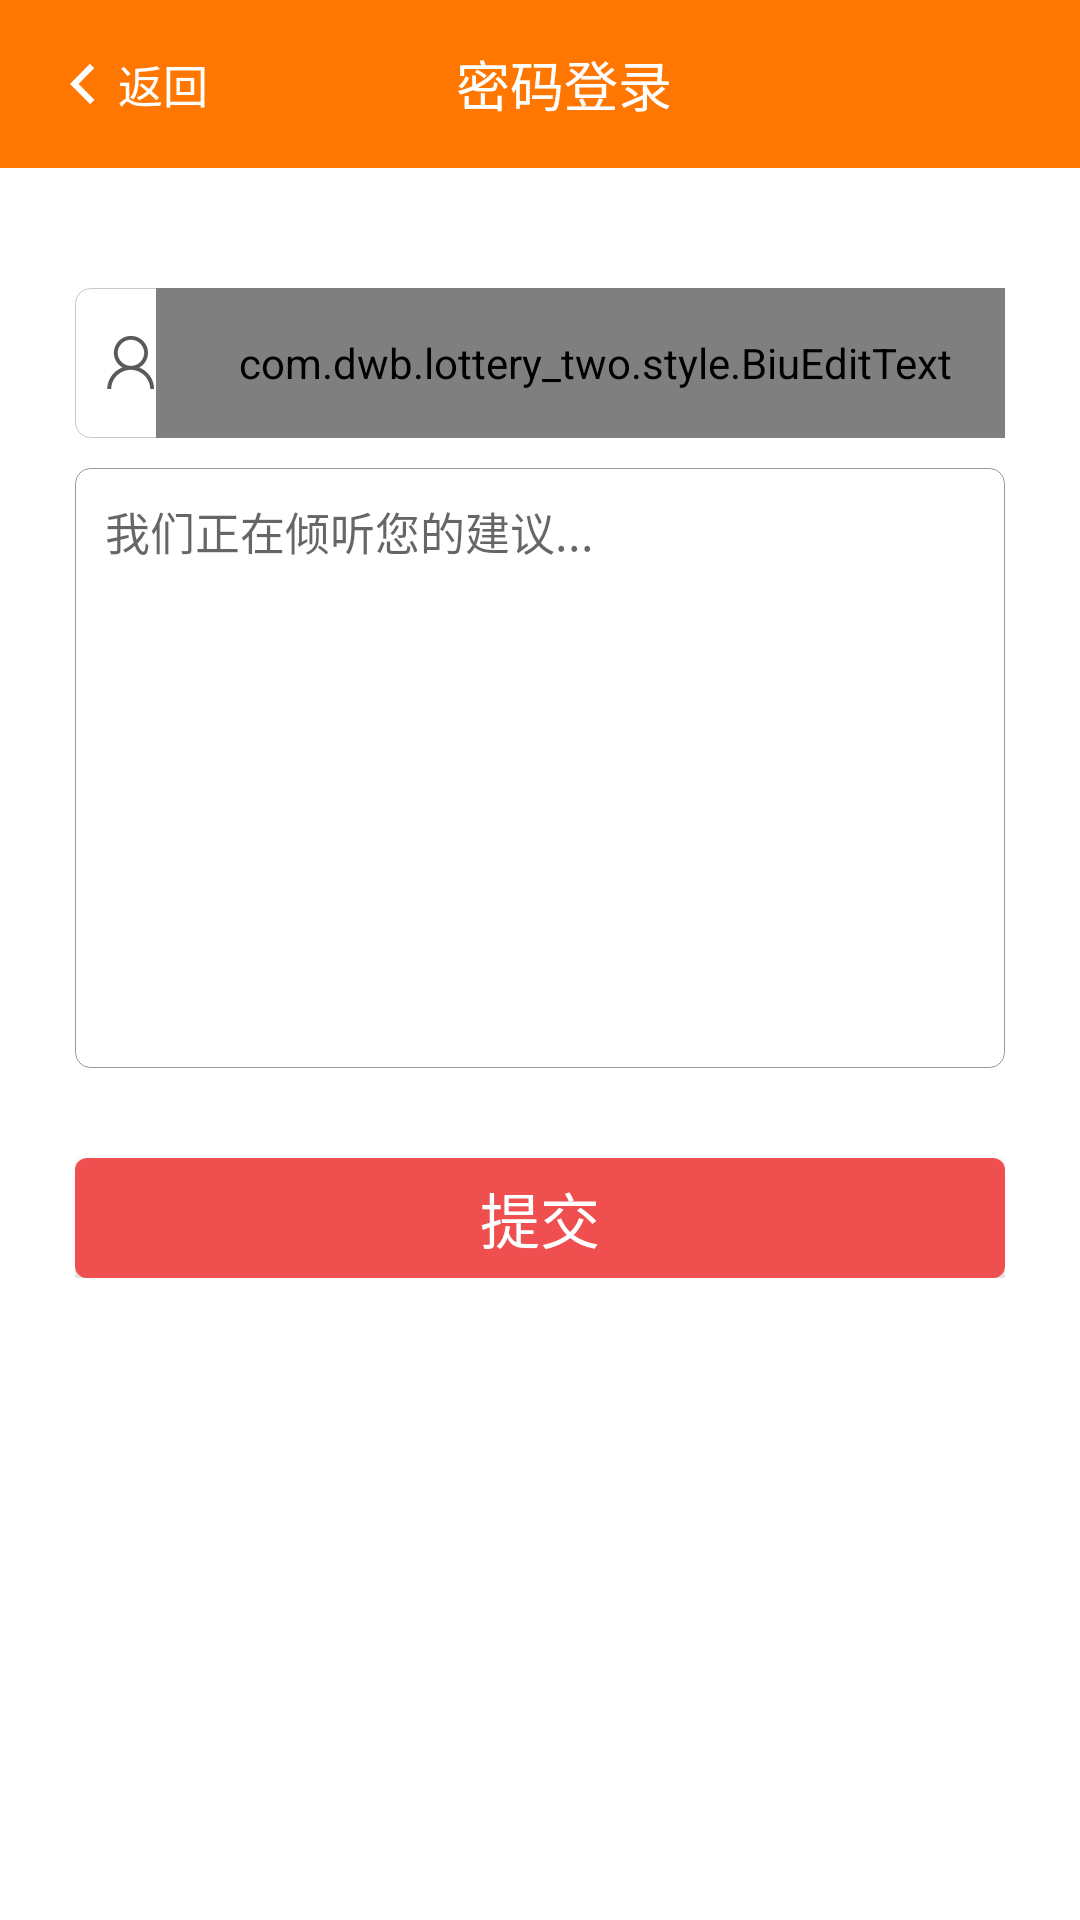

Named icons in this screenshot (1080x1920) and their centers, (x,y):
login regist accountnumber: (130,362)
